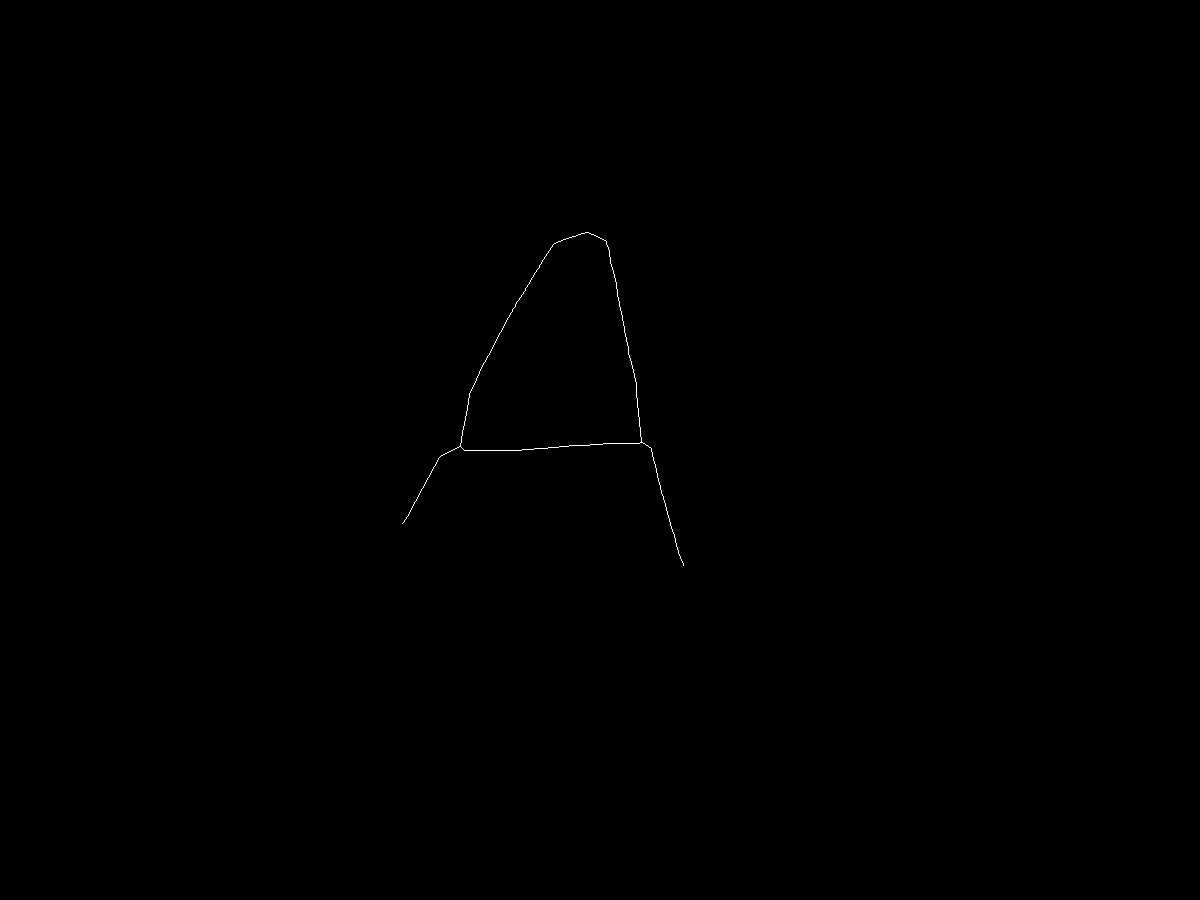dian1: (578, 219, 598, 239)
dian2: (453, 441, 467, 455)
dian3: (391, 513, 416, 538)
dian4: (632, 434, 648, 450)
dian5: (675, 558, 693, 576)
